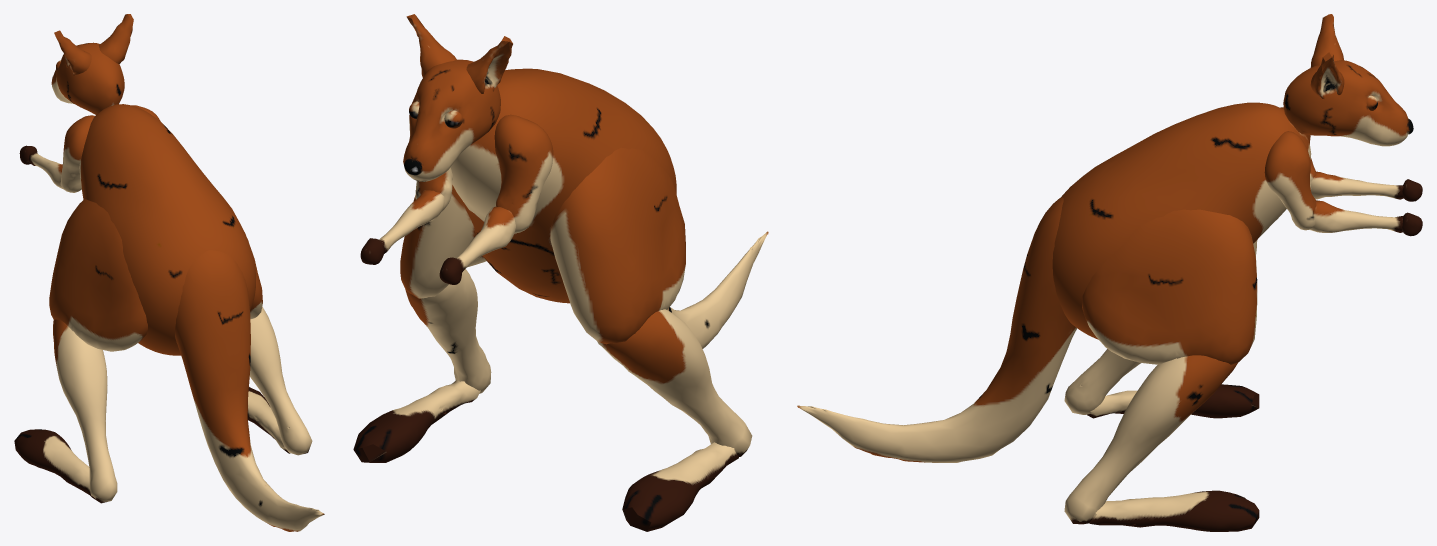
Rendered from kangaroo.FBX.
The picture shows the model from 3 angles, left to right: view 1: azimuth 30°, elevation 25°; view 2: azimuth 150°, elevation 25°; view 3: azimuth 270°, elevation 25°; orthographic projection. The views are drawn at different scales.
Visible parts, largest first — view 1: kangaroo; view 2: kangaroo; view 3: kangaroo.
Part boxes in pixels (box(x1,y1,x2,y2)): kangaroo: box(14, 14, 324, 531); kangaroo: box(353, 14, 768, 531); kangaroo: box(797, 14, 1422, 531).
Size of the model in its own units: 2.27 by 3.45 by 4.45.
1 material, 1 textured.
